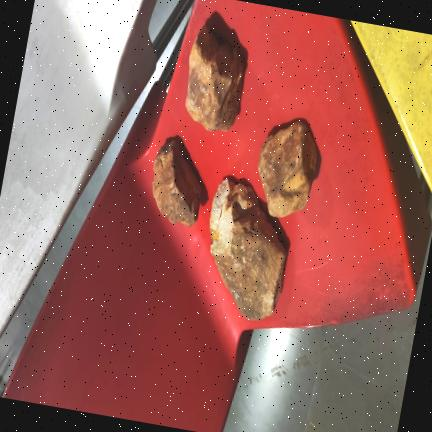Rocks: (210, 179, 286, 319), (186, 25, 243, 130), (258, 120, 317, 216), (153, 140, 201, 226)
